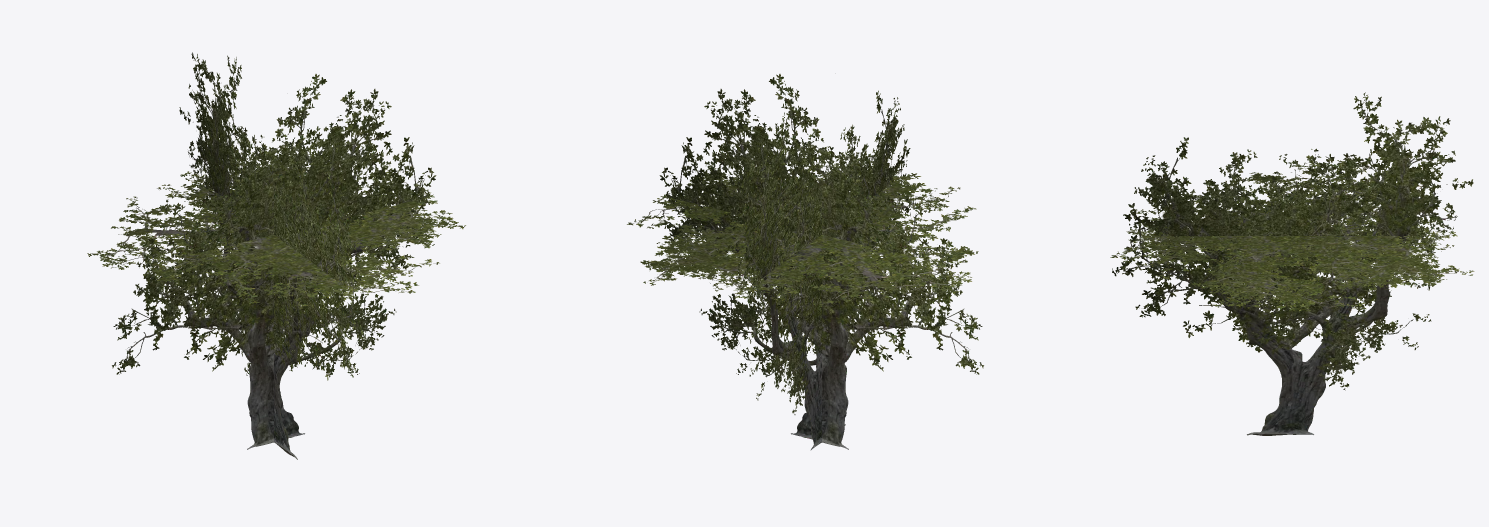
The model's file is olive.glb.
3 renders of one model, left to right at view 1: azimuth 30°, elevation 25°; view 2: azimuth 150°, elevation 25°; view 3: azimuth 270°, elevation 25°, orthographic. The views are drawn at different scales.
Parts seen in each view (by area): view 1: olive_0; view 2: olive_0; view 3: olive_0.
Part boxes in pixels (left/top/right/bottom): olive_0: left=87, top=52, right=465, bottom=459; olive_0: left=627, top=74, right=983, bottom=450; olive_0: left=1110, top=92, right=1474, bottom=435.
Size of the model in its own units: 4.82 by 5.03 by 4.82.
2 materials, 2 textured.
